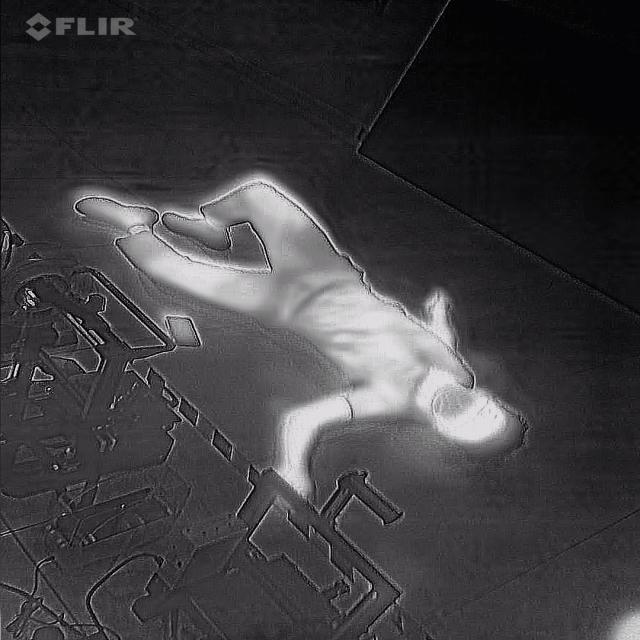Victim: (66, 171, 536, 519)
